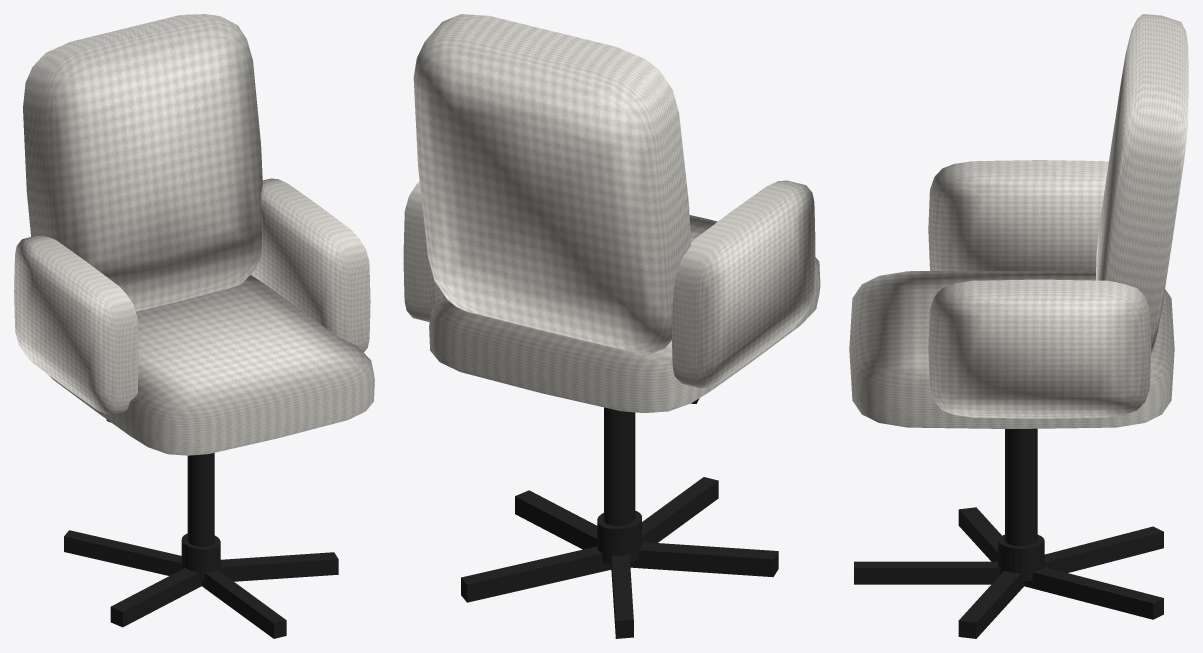
The picture shows the model from 3 angles, left to right: view 1: azimuth 30°, elevation 25°; view 2: azimuth 150°, elevation 25°; view 3: azimuth 270°, elevation 25°; orthographic projection. The views are drawn at different scales.
Visible parts, largest first — view 1: 2 backrest, 1 seat, 3 left_armrest, 4 right_armrest, 12 base_spoke_4, 10 base_spoke_2, 6 gas_lift_cylinder, 13 base_spoke_5, 9 base_spoke_1, 8 base_hub; view 2: 2 backrest, 3 left_armrest, 1 seat, 11 base_spoke_3, 13 base_spoke_5, 6 gas_lift_cylinder, 4 right_armrest, 10 base_spoke_2, 9 base_spoke_1, 8 base_hub, 12 base_spoke_4; view 3: 4 right_armrest, 2 backrest, 3 left_armrest, 1 seat, 6 gas_lift_cylinder, 9 base_spoke_1, 11 base_spoke_3, 12 base_spoke_4, 10 base_spoke_2, 8 base_hub, 13 base_spoke_5.
Part boxes in pixels (x1,y1,x2,y2): 2 backrest: (23,14,262,311); 1 seat: (49,275,374,455); 3 left_armrest: (14,235,138,414); 4 right_armrest: (250,178,370,352); 12 base_spoke_4: (64,530,181,575); 10 base_spoke_2: (220,552,338,581); 6 gas_lift_cylinder: (187,453,214,546); 13 base_spoke_5: (110,568,201,627); 9 base_spoke_1: (201,570,286,638); 8 base_hub: (181,533,220,580); 2 backrest: (413,14,690,353); 3 left_armrest: (671,180,815,387); 1 seat: (429,215,820,412); 11 base_spoke_3: (461,546,611,602); 13 base_spoke_5: (630,542,778,577); 6 gas_lift_cylinder: (604,407,635,525); 4 right_armrest: (403,181,445,321); 10 base_spoke_2: (515,490,597,549); 9 base_spoke_1: (642,477,718,542); 8 base_hub: (597,510,641,564); 12 base_spoke_4: (611,554,633,638); 4 right_armrest: (928,279,1151,418); 2 backrest: (1095,14,1188,353); 3 left_armrest: (928,160,1108,271); 1 seat: (849,271,1174,428); 6 gas_lift_cylinder: (1005,428,1037,546); 9 base_spoke_1: (854,561,1000,584); 11 base_spoke_3: (1024,567,1163,619); 12 base_spoke_4: (1044,526,1163,572); 10 base_spoke_2: (958,570,1024,638); 8 base_hub: (998,534,1044,581); 13 base_spoke_5: (958,507,1001,561).
Size of the model in its own units: 0.4699 by 0.855 by 0.495.
4 materials, 1 textured.
